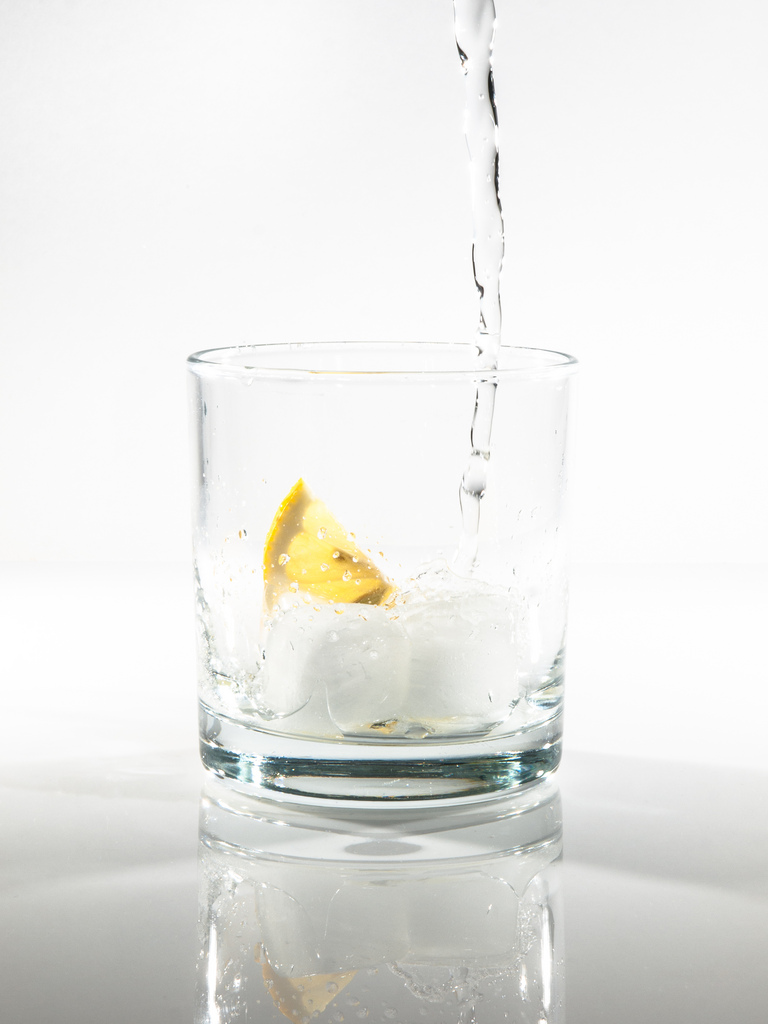glass of water: (181, 285, 594, 866)
